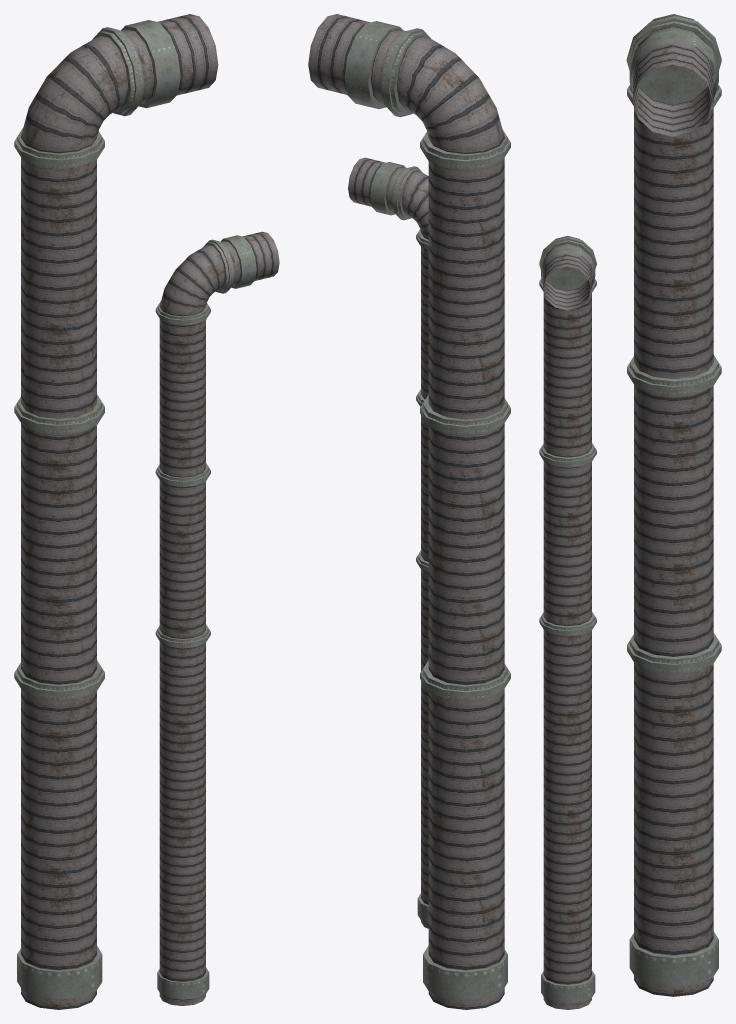
Rendered from Ob_Pipes1_RC.fbx.
3 views of the same model, side by side, from view 1: azimuth 30°, elevation 25°; view 2: azimuth 150°, elevation 25°; view 3: azimuth 270°, elevation 25° (orthographic). The views are drawn at different scales.
Parts seen in each view (by area): view 1: Ob_Pipes1_RC; view 2: Ob_Pipes1_RC; view 3: Ob_Pipes1_RC.
Boxes of the visible parts, x1,y1,x2,y2 form: Ob_Pipes1_RC: (14, 14, 279, 1009); Ob_Pipes1_RC: (308, 14, 510, 1009); Ob_Pipes1_RC: (539, 14, 721, 1009).
Size of the model in its own units: 3030 by 13979 by 2330.
